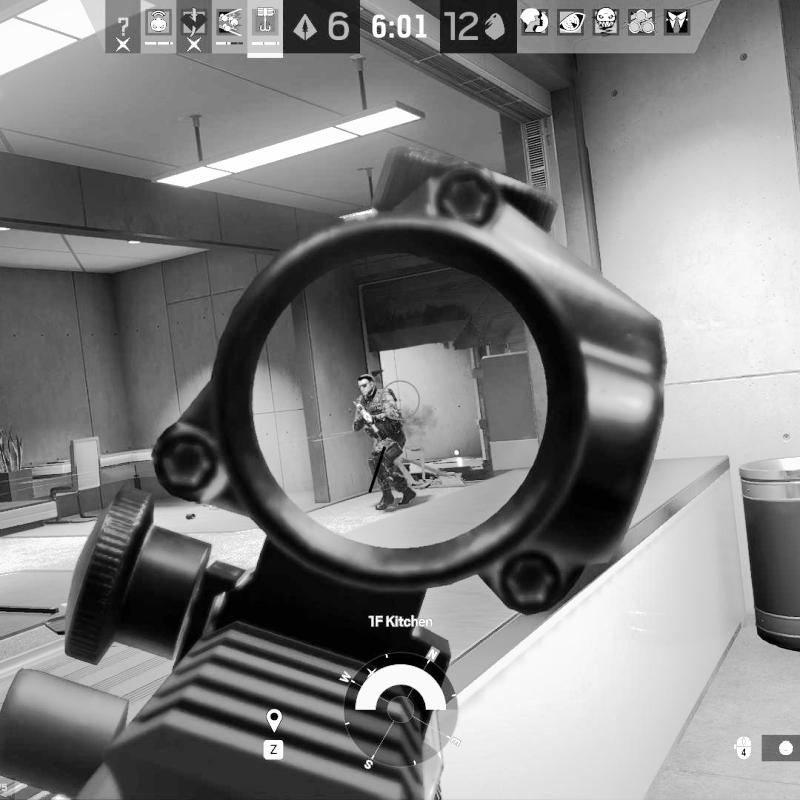Character: (352, 372, 419, 512)
Head: (357, 373, 377, 397)
